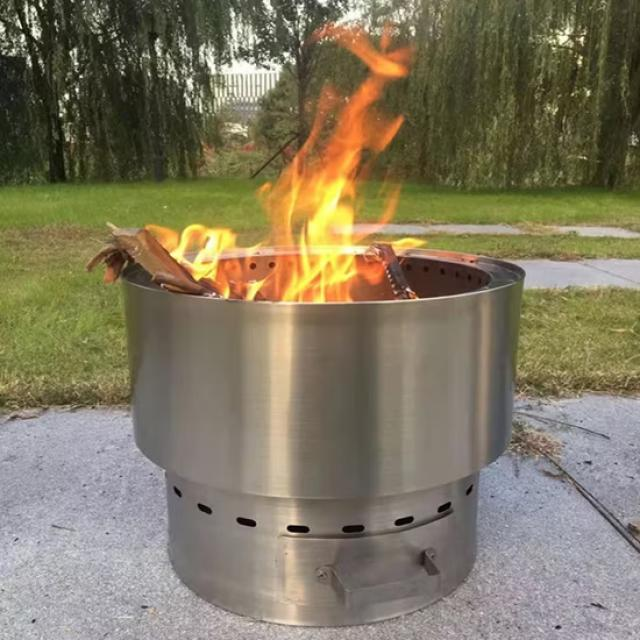fire: (242, 17, 426, 302), (147, 222, 240, 298)
